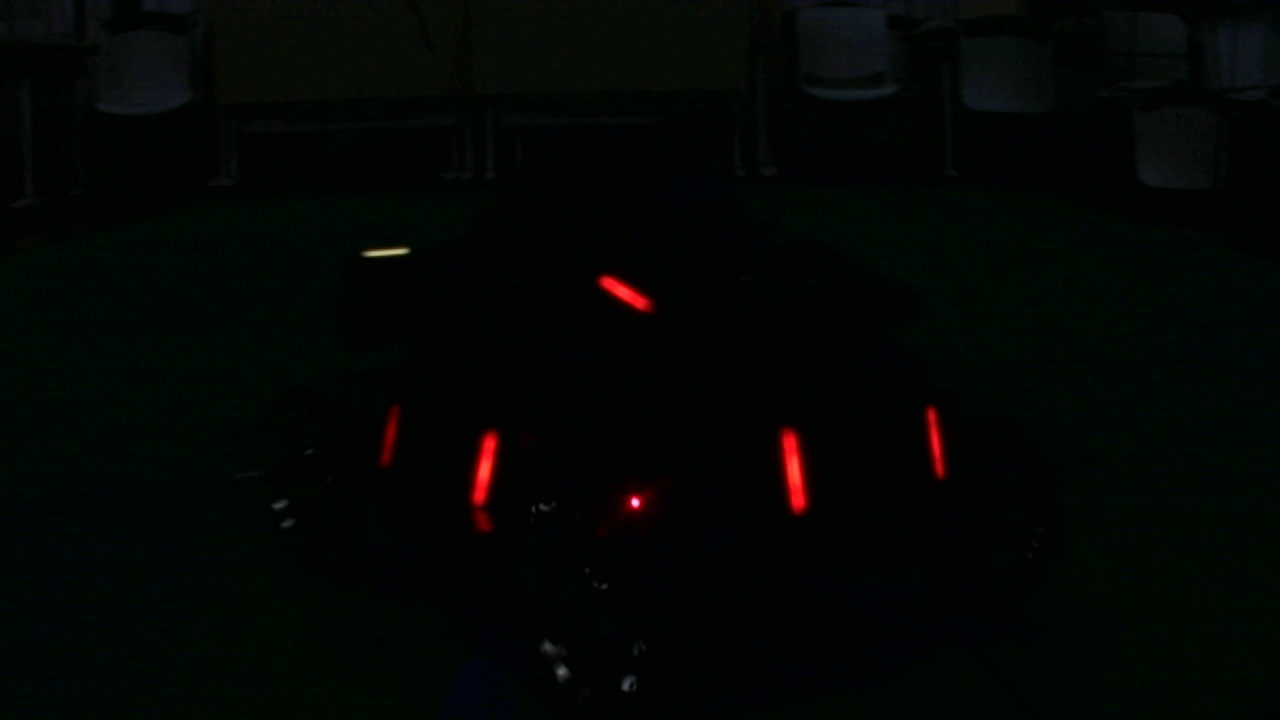lamp: (468, 423, 498, 513), (779, 427, 808, 512), (921, 401, 946, 482)
notpair1: (471, 426, 808, 529)
pair1: (783, 402, 944, 516)
